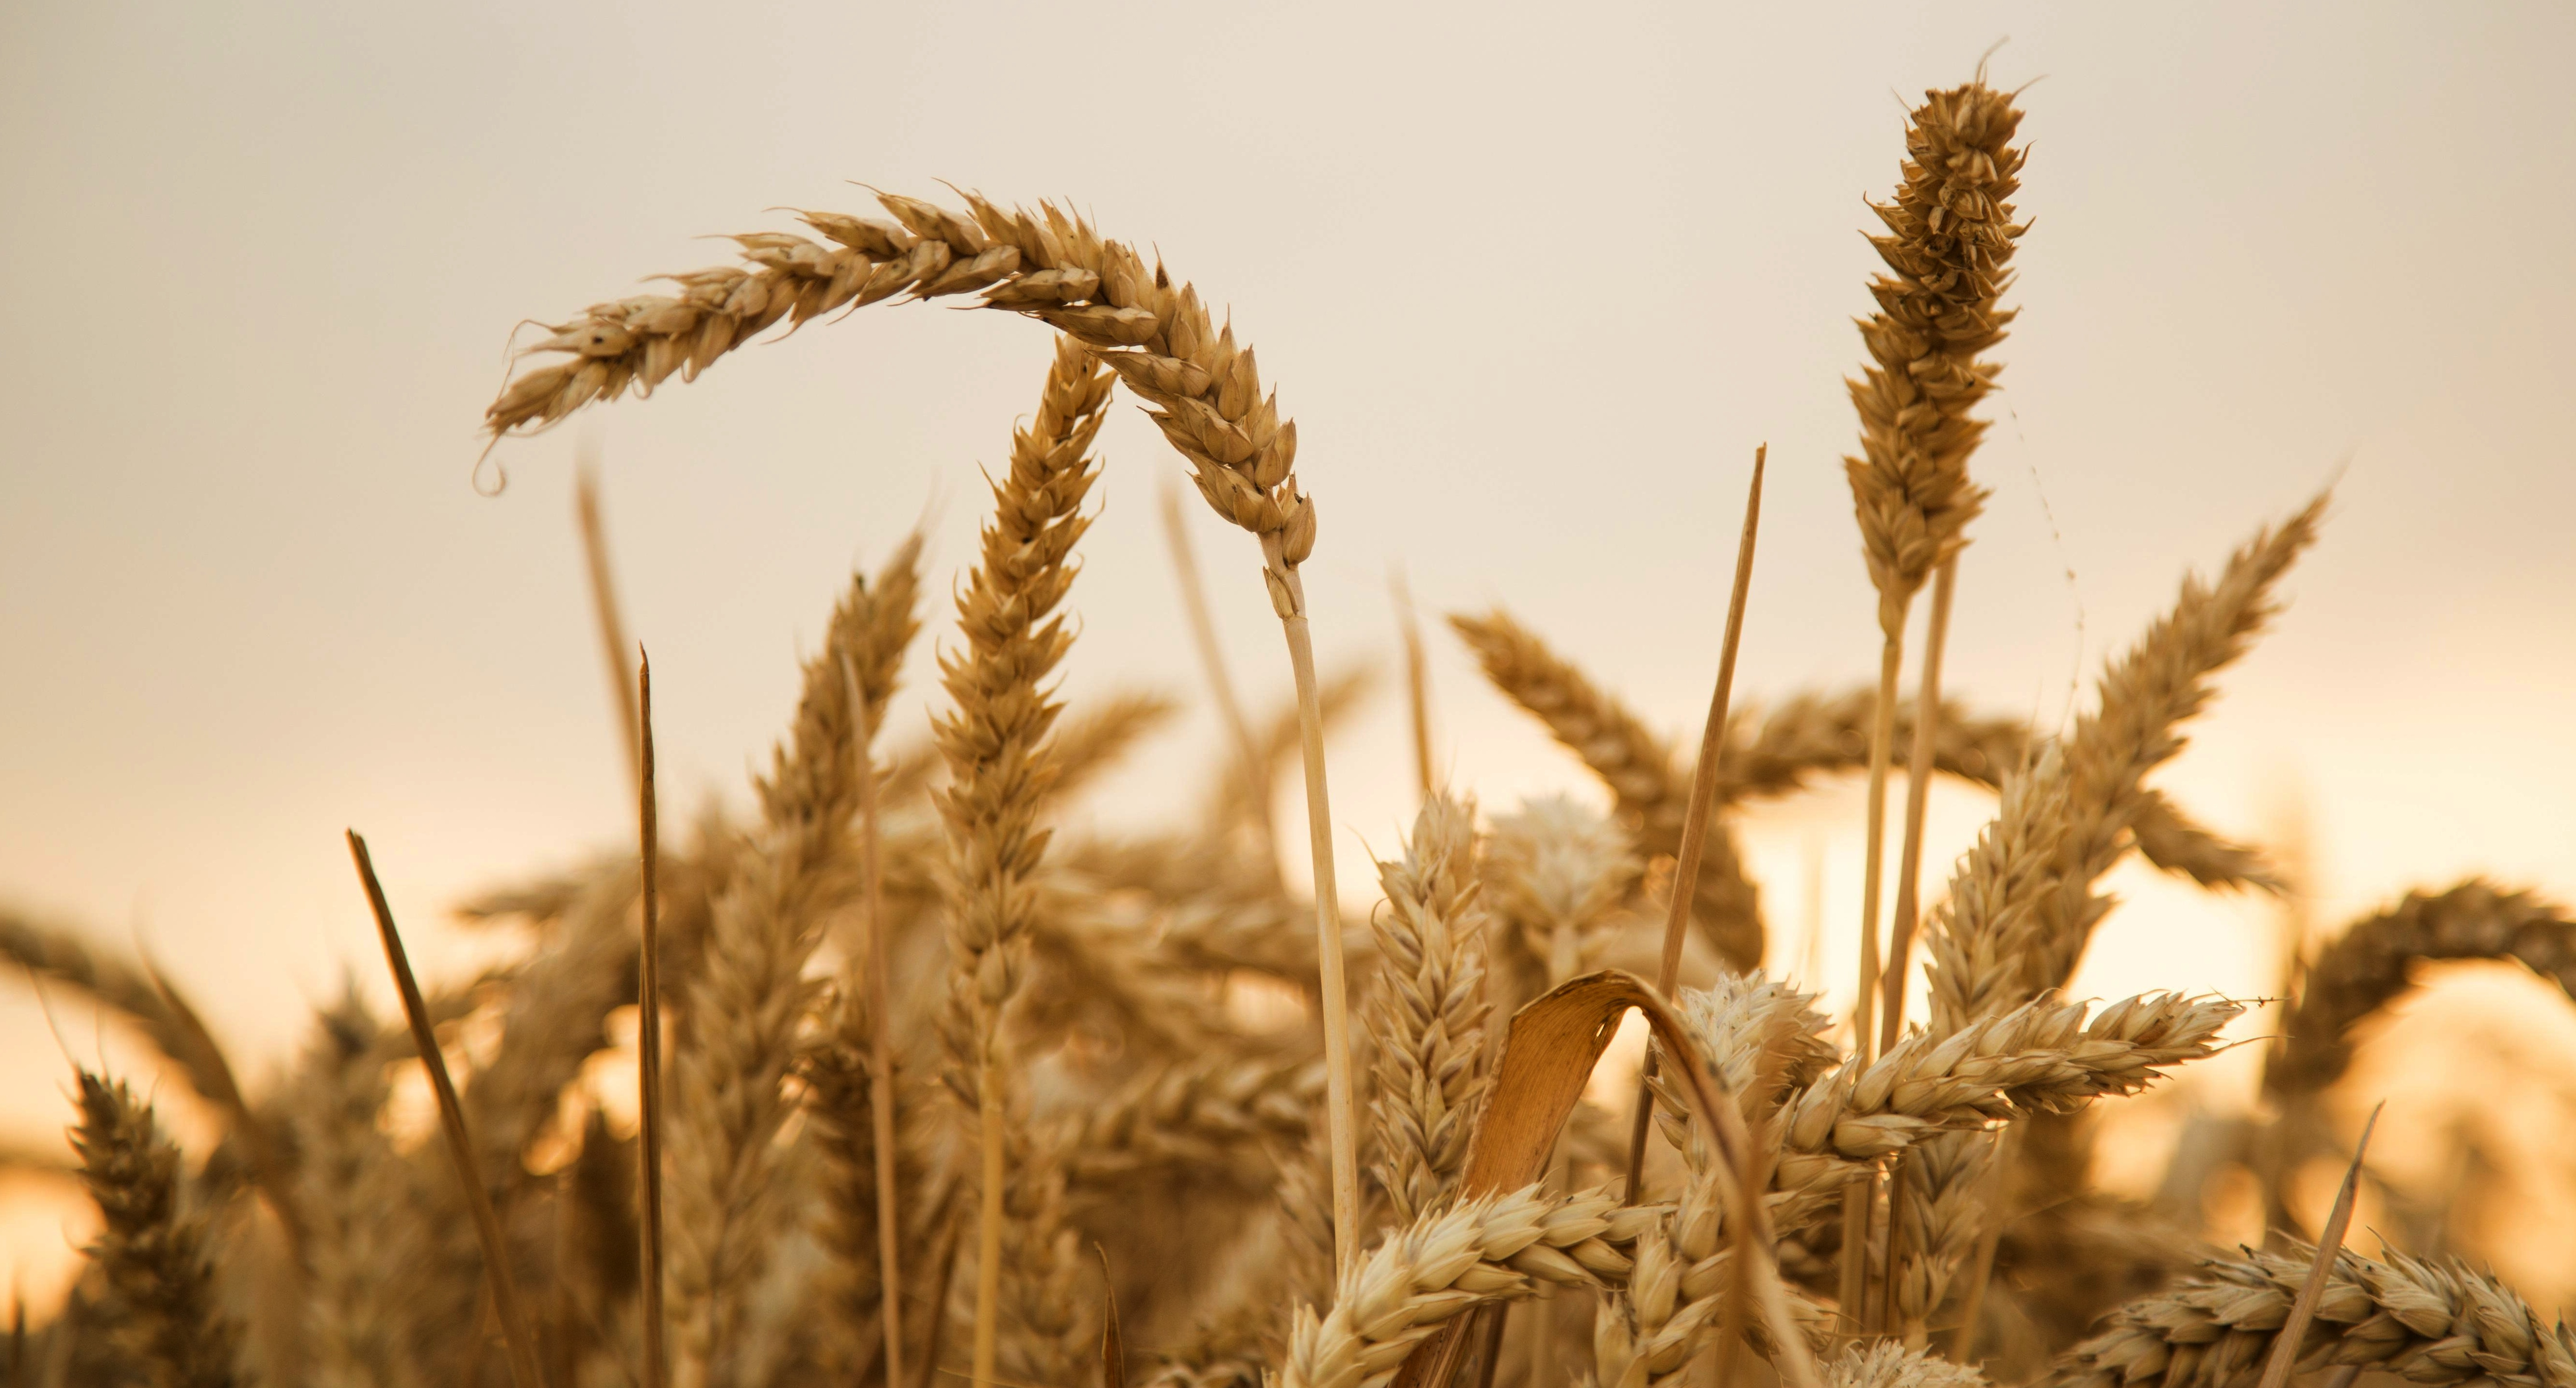wheat: (451, 174, 1316, 591), (926, 291, 1118, 1063), (1856, 19, 2027, 673)
